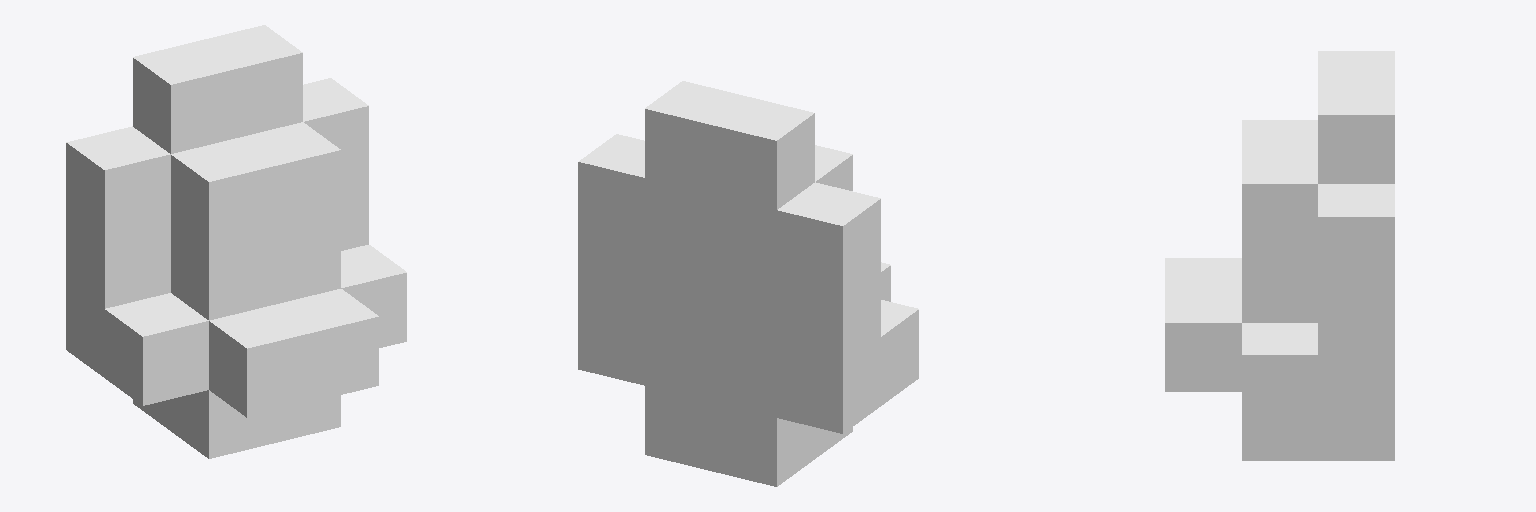
The model's file is Extra-7-MicroRecon_Cockpit.obj.
The picture shows the model from 3 angles: view 1: azimuth 30°, elevation 25°; view 2: azimuth 150°, elevation 25°; view 3: azimuth 270°, elevation 25°; orthographic projection.
Parts seen in each view (by area): view 1: MicroRecon_Cockpit; view 2: MicroRecon_Cockpit; view 3: MicroRecon_Cockpit.
Boxes of the visible parts, x1,y1,x2,y2 form: MicroRecon_Cockpit: [66, 25, 406, 458]; MicroRecon_Cockpit: [578, 81, 918, 486]; MicroRecon_Cockpit: [1165, 51, 1394, 460].
Size of the model in its own units: 0.4 by 0.5 by 0.3.